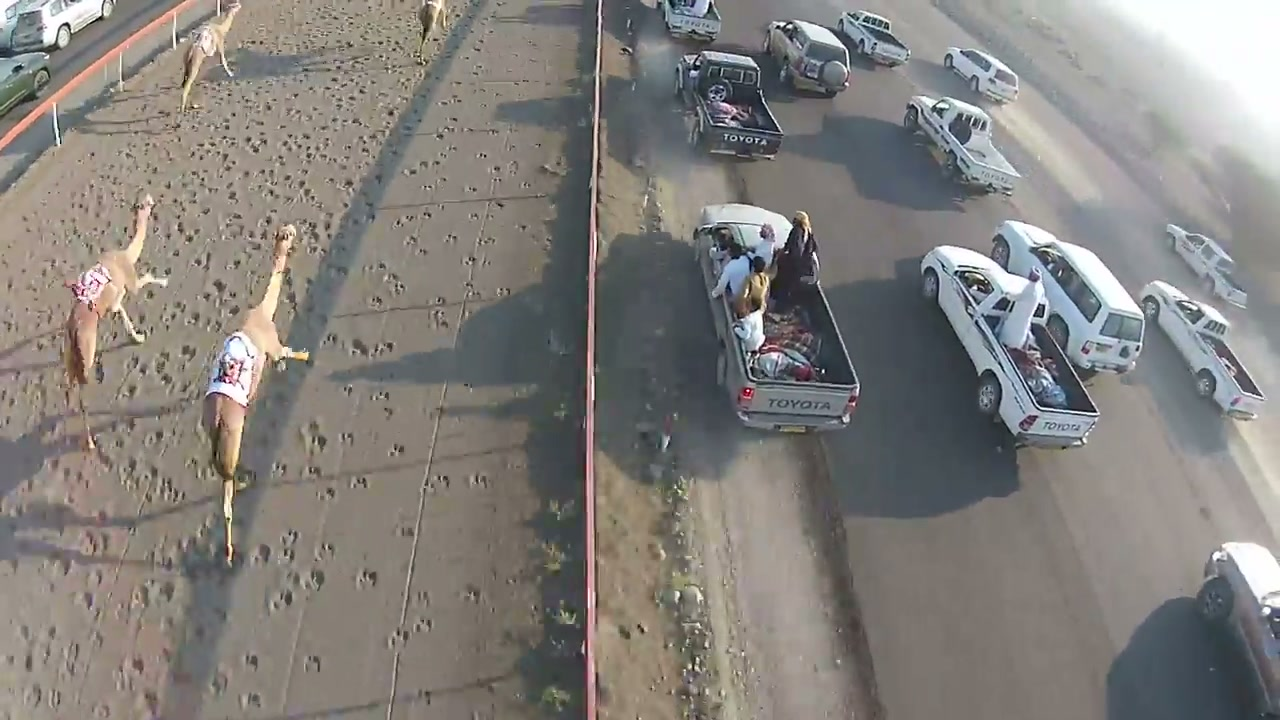animal_foot_print: (160, 34, 495, 702), (46, 53, 369, 695)
